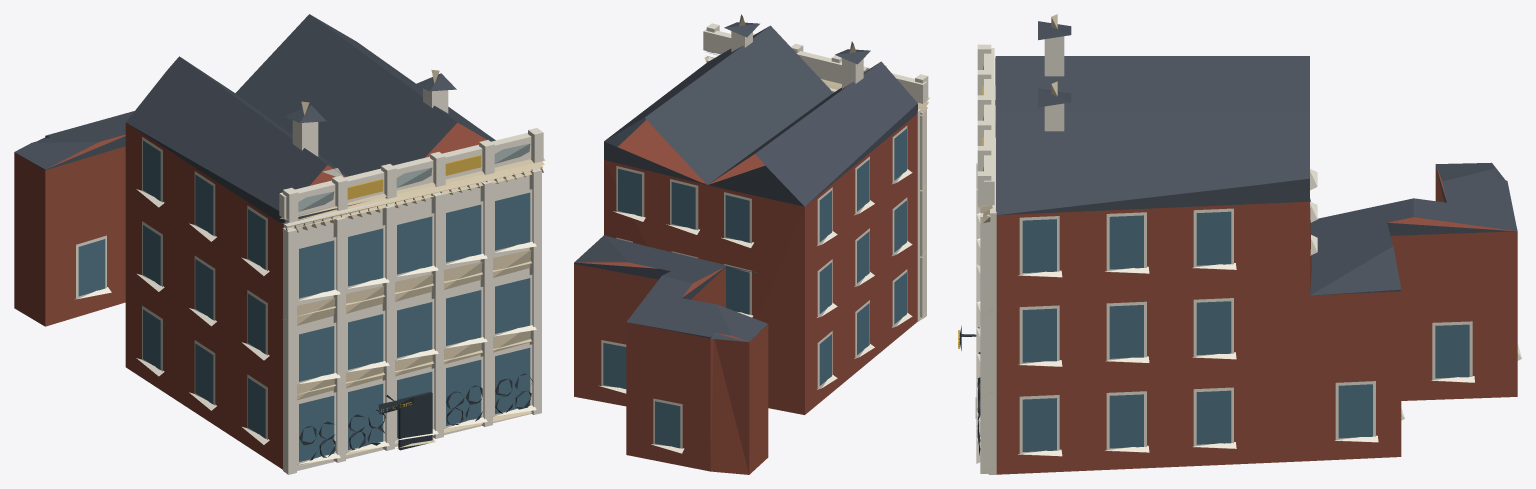
File: huis-de-pinto.lod1.glb
The picture shows the model from 3 angles, left to right: view 1: azimuth 30°, elevation 25°; view 2: azimuth 150°, elevation 25°; view 3: azimuth 270°, elevation 25°; orthographic projection. The views are drawn at different scales.
Parts seen in each view (by area): view 1: huis-de-pinto; view 2: huis-de-pinto; view 3: huis-de-pinto.
Boxes of the visible parts, <box> form: huis-de-pinto: <box>14,14,545,474</box>; huis-de-pinto: <box>574,14,929,474</box>; huis-de-pinto: <box>958,14,1521,474</box>.
Size of the model in its own units: 14.36 by 15.95 by 22.85.
